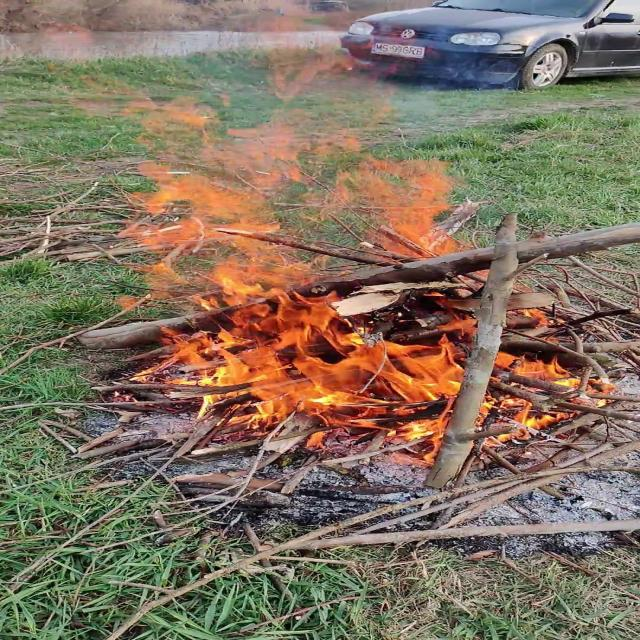Fire: (51, 52, 632, 484)
